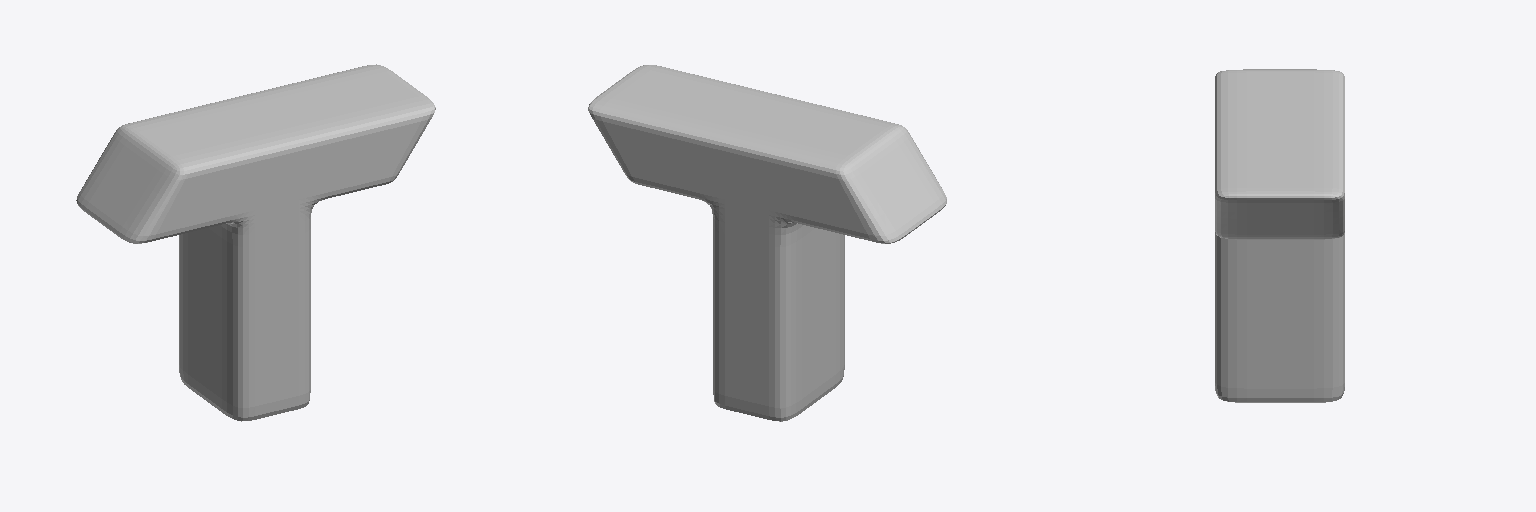
3 views of the same model, side by side, from view 1: azimuth 30°, elevation 25°; view 2: azimuth 150°, elevation 25°; view 3: azimuth 270°, elevation 25° (orthographic).
Visible parts, largest first — view 1: polySurface12 text2FixedOneObjectNewNoHistory:pasted__T1; view 2: polySurface12 text2FixedOneObjectNewNoHistory:pasted__T1; view 3: polySurface12 text2FixedOneObjectNewNoHistory:pasted__T1.
Part boxes in pixels (x1,y1,x2,y2): polySurface12 text2FixedOneObjectNewNoHistory:pasted__T1: (76, 64, 435, 421); polySurface12 text2FixedOneObjectNewNoHistory:pasted__T1: (588, 65, 946, 421); polySurface12 text2FixedOneObjectNewNoHistory:pasted__T1: (1215, 69, 1344, 402).
Bounding box in the file's own units: 462 × 390 × 170.